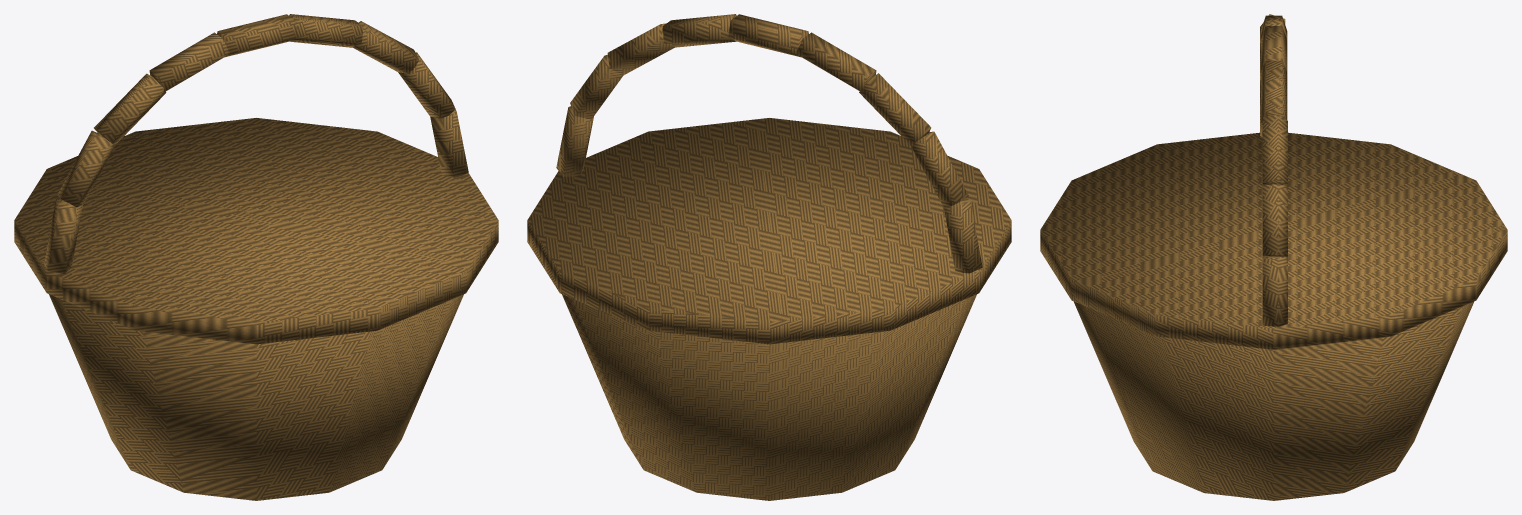
The model's file is cesta.obj.
The picture shows the model from 3 angles, left to right: view 1: azimuth 30°, elevation 25°; view 2: azimuth 150°, elevation 25°; view 3: azimuth 270°, elevation 25°; orthographic projection. The views are drawn at different scales.
Visible parts, largest first — view 1: cesta; view 2: cesta; view 3: cesta.
Part boxes in pixels (x1,y1,x2,y2): cesta: [14, 14, 498, 500]; cesta: [527, 14, 1011, 500]; cesta: [1040, 14, 1507, 500].
Size of the model in its own units: 0.4024 by 0.3771 by 0.4.
Materials: 1 (1 with a texture image).
